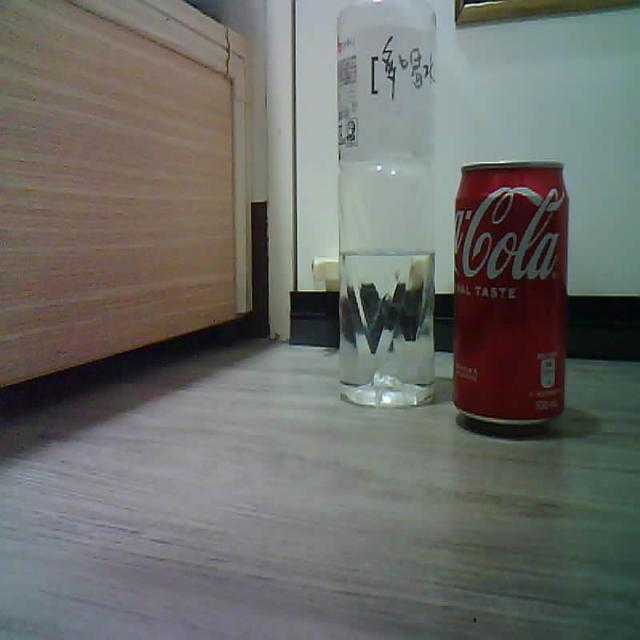bottle: (337, 0, 434, 406)
can: (454, 162, 568, 430)
